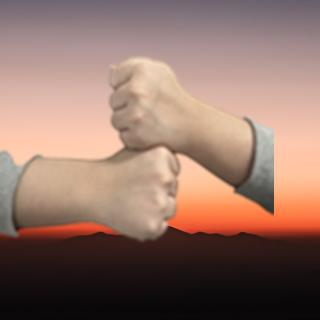CAREFUL: (32, 57, 247, 240)
